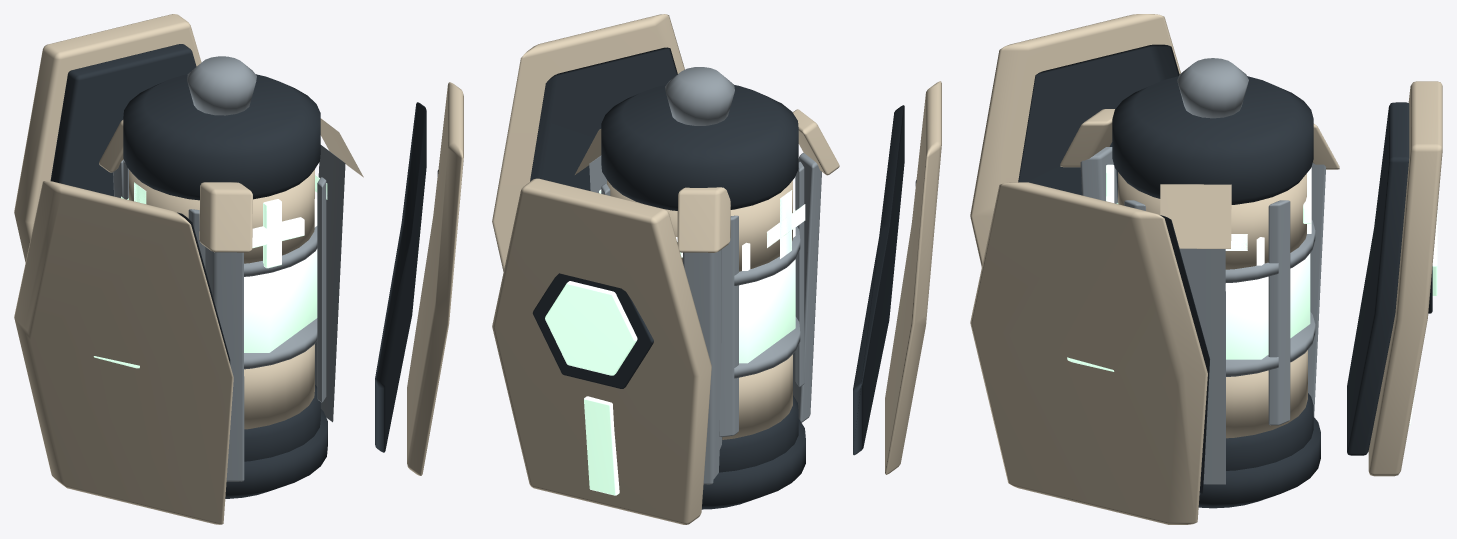
The model's file is PowerCells.fbx.
3 renders of one model, left to right at view 1: azimuth 30°, elevation 25°; view 2: azimuth 150°, elevation 25°; view 3: azimuth 270°, elevation 25°, orthographic.
Visible parts, largest first — view 1: Shield_Mount, Med_Mount, Surge_Mount; view 2: Shield_Mount, Med_Mount, Surge_Mount; view 3: Shield_Mount, Med_Mount, Surge_Mount.
Part boxes in pixels (x1,y1,x2,y2): Shield_Mount: (14, 14, 463, 524); Med_Mount: (121, 56, 327, 461); Surge_Mount: (99, 118, 363, 498); Shield_Mount: (492, 14, 941, 524); Med_Mount: (599, 67, 805, 472); Surge_Mount: (575, 109, 839, 509); Shield_Mount: (970, 14, 1442, 524); Med_Mount: (1106, 58, 1315, 470); Surge_Mount: (1060, 109, 1339, 508).
Size of the model in its own units: 0.6896 by 0.63 by 0.6569.
